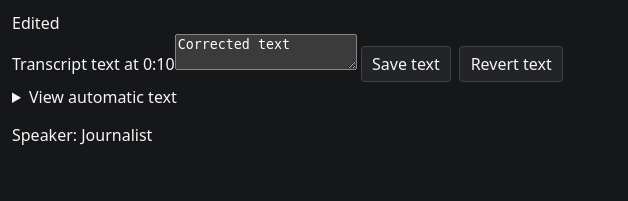
Test: exposes automatic text and reverts only the text correction
The image size is (628, 201).
Expected: the text "Edited" is shown, [12,12,60,34]
Step 1. Click the heading "View automatic text" → (103, 97), box [29,86,177,108]
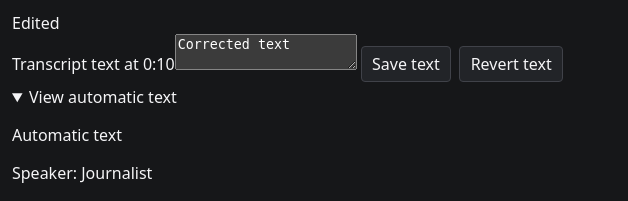
Result: the text "Automatic text" is shown at [12,124,122,146]
Step 2. Click the button "Revert text" → (511, 64), box [459,46,563,82]
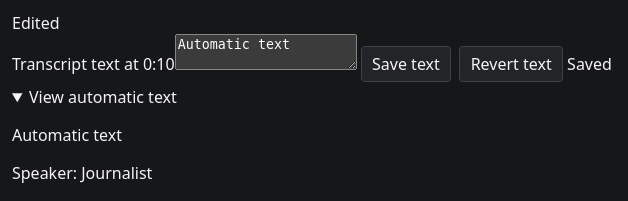
Expected: the text "Speaker: Journalist" is shown, [12,162,152,184]
Result: the text box labelled "Transcript text at 0:10" holds "Automatic text" at [175,34,357,70]
